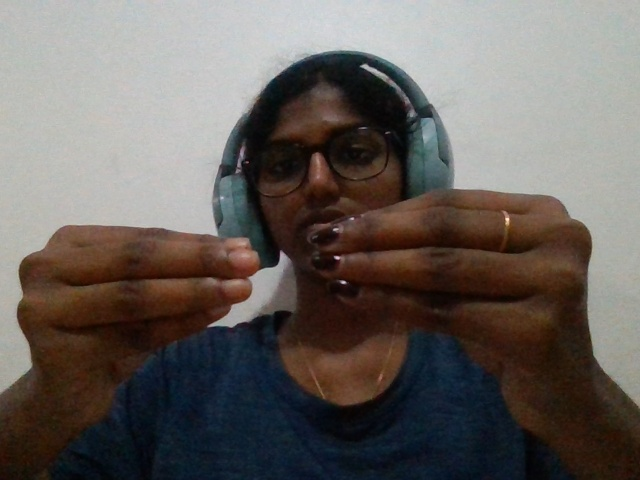More: (7, 165, 629, 480)
